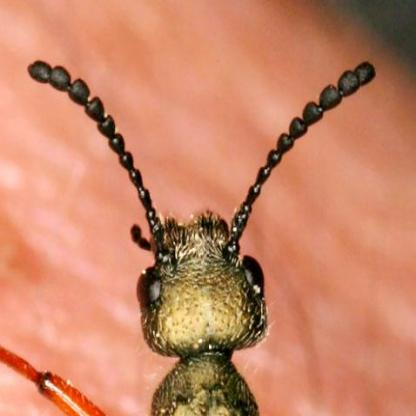beetle: (30, 52, 380, 416)
